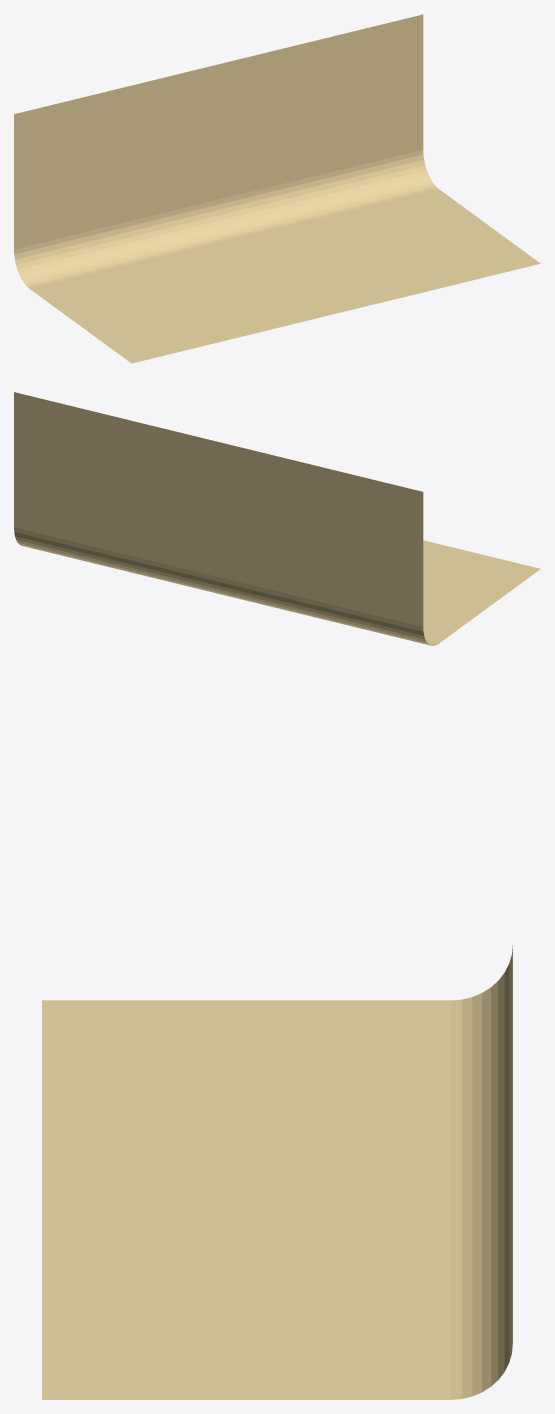
Rendered from bgBlank.gltf.
3 views of the same model, one above another, from view 1: azimuth 30°, elevation 25°; view 2: azimuth 150°, elevation 25°; view 3: azimuth 270°, elevation 25° (orthographic). The views are drawn at different scales.
Parts seen in each view (by area): view 1: Bg; view 2: Bg; view 3: Bg.
Boxes of the visible parts, left/top/right/bottom form: Bg: left=14, top=14, right=540, bottom=363; Bg: left=14, top=392, right=540, bottom=645; Bg: left=42, top=945, right=512, bottom=1399.
Size of the model in its own units: 40.15 by 15.3 by 20.
